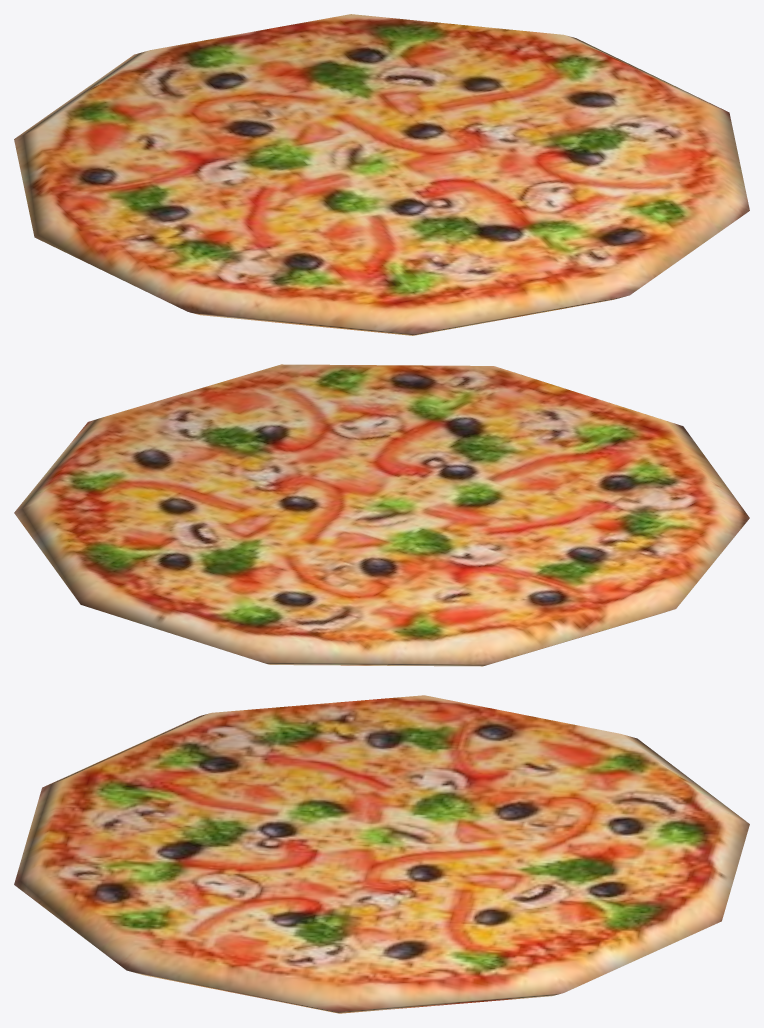
3 views of the same model, one above another, from view 1: azimuth 30°, elevation 25°; view 2: azimuth 150°, elevation 25°; view 3: azimuth 270°, elevation 25° (orthographic). The views are drawn at different scales.
Visible parts, largest first — view 1: Cylinder085_Foods_04_0; view 2: Cylinder085_Foods_04_0; view 3: Cylinder085_Foods_04_0.
Boxes of the visible parts, box(x1,y1,x2,y2) form: Cylinder085_Foods_04_0: box(14, 14, 749, 335); Cylinder085_Foods_04_0: box(14, 364, 749, 666); Cylinder085_Foods_04_0: box(14, 695, 749, 1013).
Size of the model in its own units: 0.3047 by 0.0109 by 0.3013.
1 material, 1 textured.
